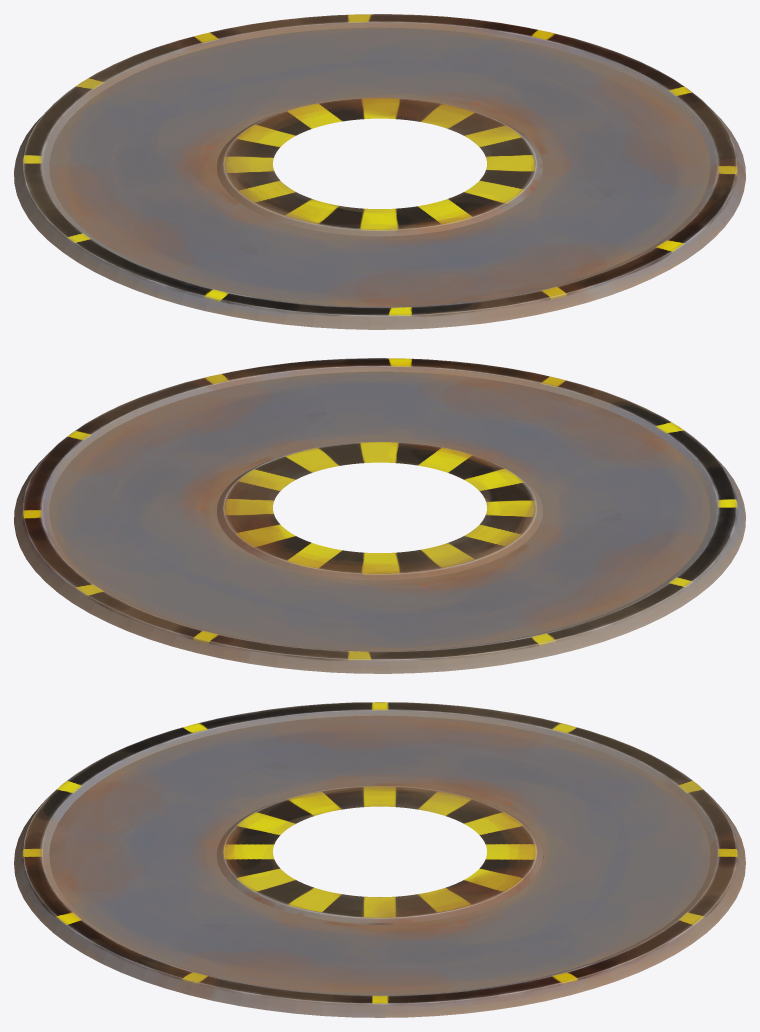
Rendered from TowerSocle.fbx.
3 renders of one model, top to bottom at view 1: azimuth 30°, elevation 25°; view 2: azimuth 150°, elevation 25°; view 3: azimuth 270°, elevation 25°, orthographic.
Parts seen in each view (by area): view 1: SM_towerBoss_Socle.mo; view 2: SM_towerBoss_Socle.mo; view 3: SM_towerBoss_Socle.mo.
Boxes of the visible parts, x1=… form: SM_towerBoss_Socle.mo: x1=14, y1=14, x2=745, y2=329; SM_towerBoss_Socle.mo: x1=14, y1=358, x2=745, y2=673; SM_towerBoss_Socle.mo: x1=14, y1=702, x2=745, y2=1017.
Size of the model in its own units: 1616 by 27.61 by 1616.
